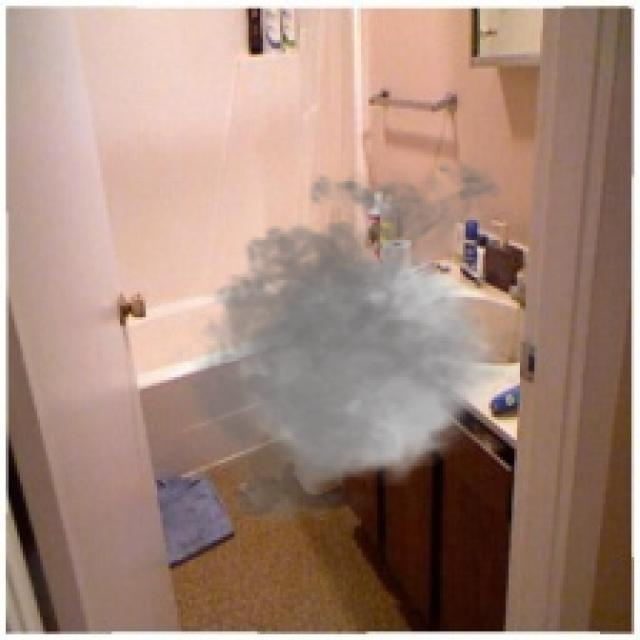smoke: (160, 149, 569, 540)
